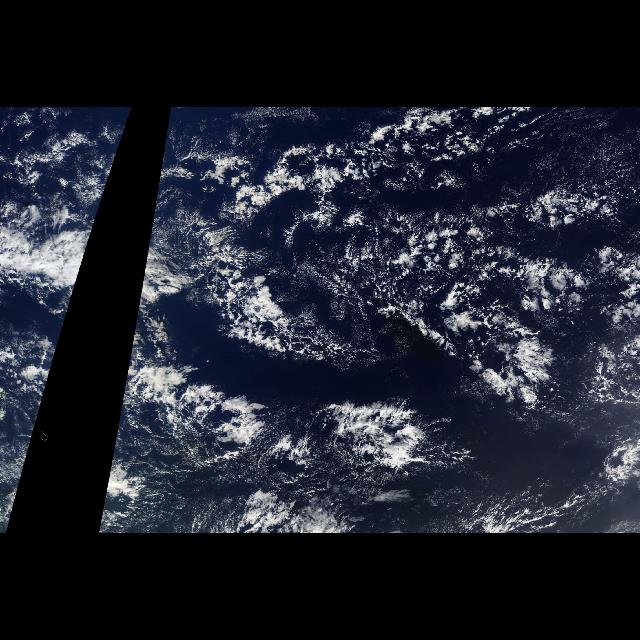Fish: (119, 366, 444, 498)
Gravel: (168, 140, 638, 476)
